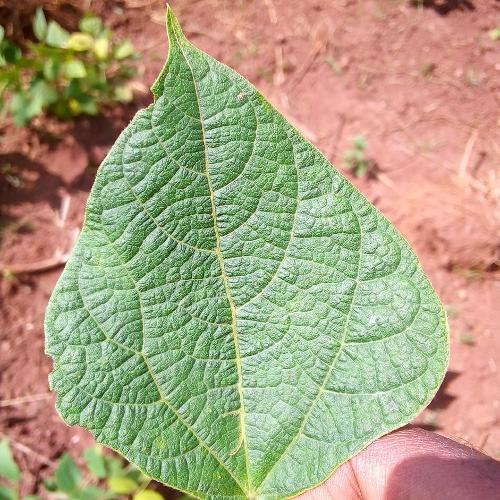sehat: (246, 237, 378, 434)
